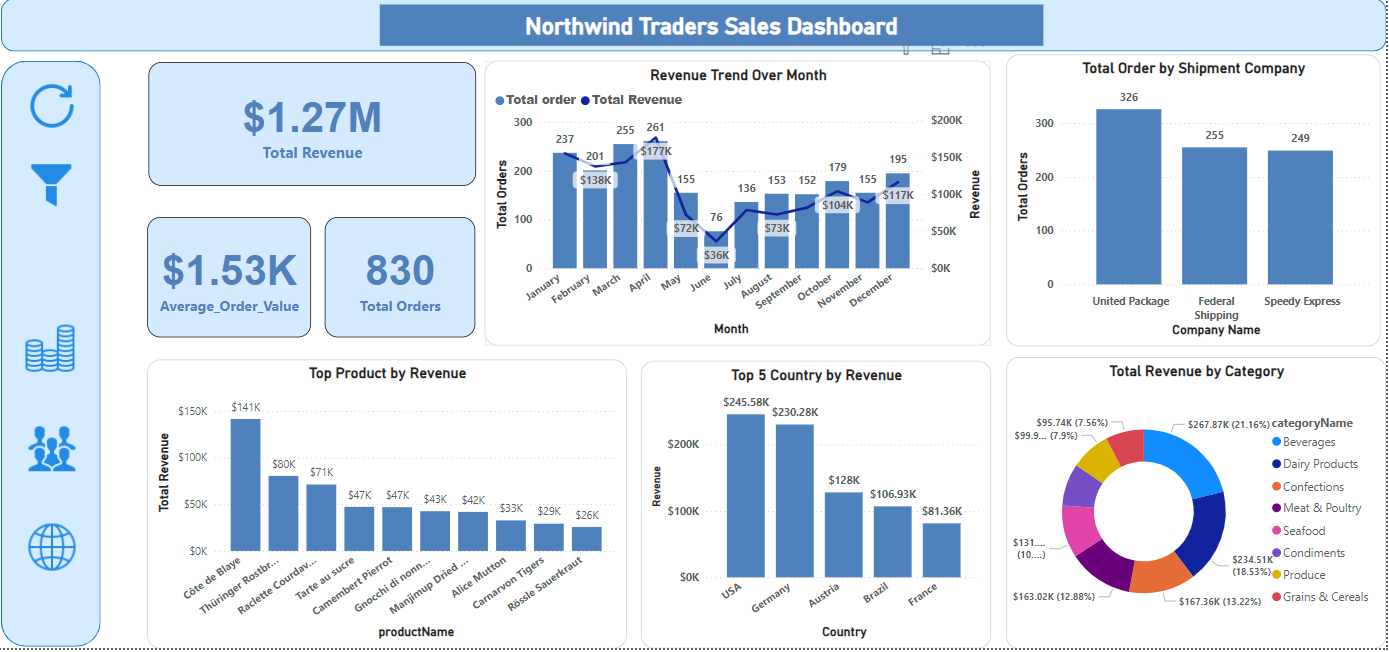

What the dashboard file says about the page in this screenshot:
{"tool":"powerbi","page":{"name":"Sales Dashboard","canvas":[1600,750],"ordinal":0},"visuals":[{"type":"shape","box":[16.5,78.5,113.9,669.6],"z":0},{"type":"card","fields":{"Values":["Measure_table.Total Revenue"]},"box":[185.7,80,374.3,141.4],"z":1000},{"type":"columnChart","title":"Top Product by Revenue","fields":{"Category":["products.productName"],"Y":["Sum(order_details.Total sales)"]},"box":[184.8,420.3,548.1,330.4],"z":2000},{"type":"columnChart","title":"Total Order by Shipment Company","fields":{"Y":["CountNonNull(orders.orderID)"],"Category":["shippers.companyName"]},"box":[1165.3,70.8,427.8,333.3],"z":3000},{"type":"donutChart","title":"Total Revenue by Category","fields":{"Category":["categories.categoryName"],"Y":["Sum(order_details.Revenue)"]},"box":[1165.3,416.7,434.7,333.3],"z":4000},{"type":"columnChart","title":"Top 5 Country by Revenue","fields":{"Category":["customers.country"],"Y":["Sum(order_details.Revenue)"]},"box":[748.1,421.5,400,329.1],"z":5000},{"type":"lineClusteredColumnComboChart","title":"Revenue Trend Over Month","fields":{"Y2":["Sum(order_details.Revenue)"],"Y":["CountNonNull(order_details.orderID)"],"Category":["CalendarTable.Date.Variation.Date Hierarchy.Month"]},"box":[569.6,78.5,578.5,325.3],"z":6000},{"type":"card","fields":{"Values":["Measure_table.Average_Order_Value"]},"box":[184.7,256.9,187.5,137.5],"z":7000},{"type":"card","fields":{"Values":["Measure_table.Total Orders"]},"box":[387.5,256.9,172.2,137.5],"z":8000},{"type":"shape","box":[16.5,7.6,1583.5,60.8],"z":9000},{"type":"textbox","title":"Northwind Traders Sales Dashboard","box":[450,13.9,758.3,47.2],"z":10000},{"type":"image","title":"Sales","box":[17.7,374.7,112.7,65.8],"z":11000},{"type":"image","title":"customers","box":[41.8,479.7,68.4,83.5],"z":12000},{"type":"image","title":"map","box":[41.8,597.5,68.4,74.7],"z":13000},{"type":"image","title":"reset sliecer","box":[41.8,98.7,68.4,63.3],"z":14000},{"type":"image","title":"filter","box":[41.8,189.9,65.8,62],"z":15000}]}

Visuals, with their boxes in screenshot pixels (x1, y1, x2, y2), scaled from the page's 1600x750 canvas onto the 1389x652 screenshot:
shape: (14,68,113,650)
card - Measure_table.Total Revenue: (161,70,486,192)
"Top Product by Revenue" columnChart: (160,365,636,651)
"Total Order by Shipment Company" columnChart: (1012,62,1383,351)
"Total Revenue by Category" donutChart: (1012,362,1388,651)
"Top 5 Country by Revenue" columnChart: (649,366,997,651)
"Revenue Trend Over Month" lineClusteredColumnComboChart: (494,68,997,351)
card - Measure_table.Average_Order_Value: (160,223,323,343)
card - Measure_table.Total Orders: (336,223,486,343)
shape: (14,7,1388,59)
"Northwind Traders Sales Dashboard" textbox: (391,12,1049,53)
"Sales" image: (15,326,113,383)
"customers" image: (36,417,96,490)
"map" image: (36,519,96,584)
"reset sliecer" image: (36,86,96,141)
"filter" image: (36,165,93,219)
